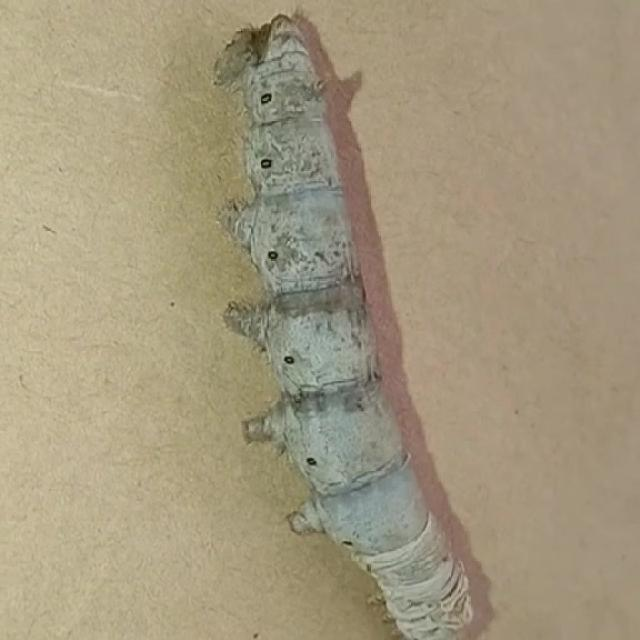Grasserie: (195, 1, 570, 640)
